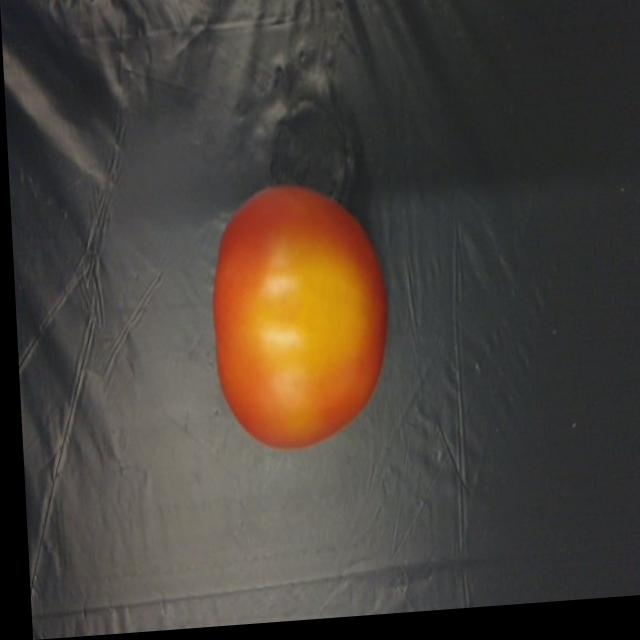sari: (194, 176, 400, 456)
